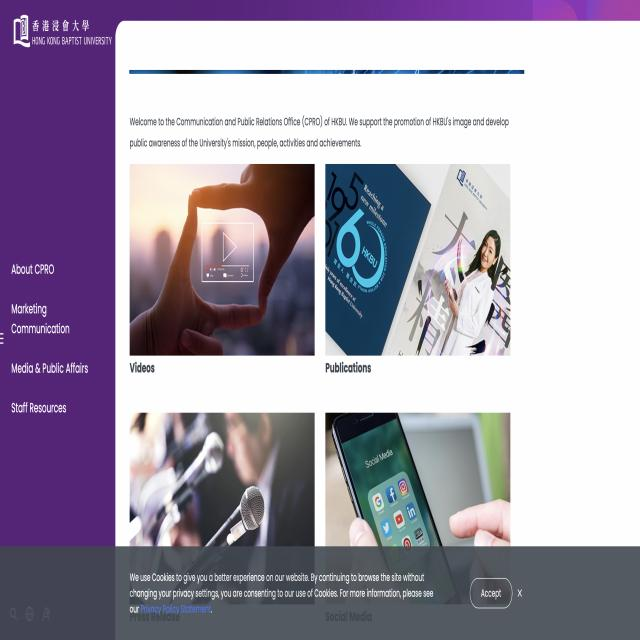Logo: (0, 0, 115, 55)
Navigation: (1, 230, 112, 462)
